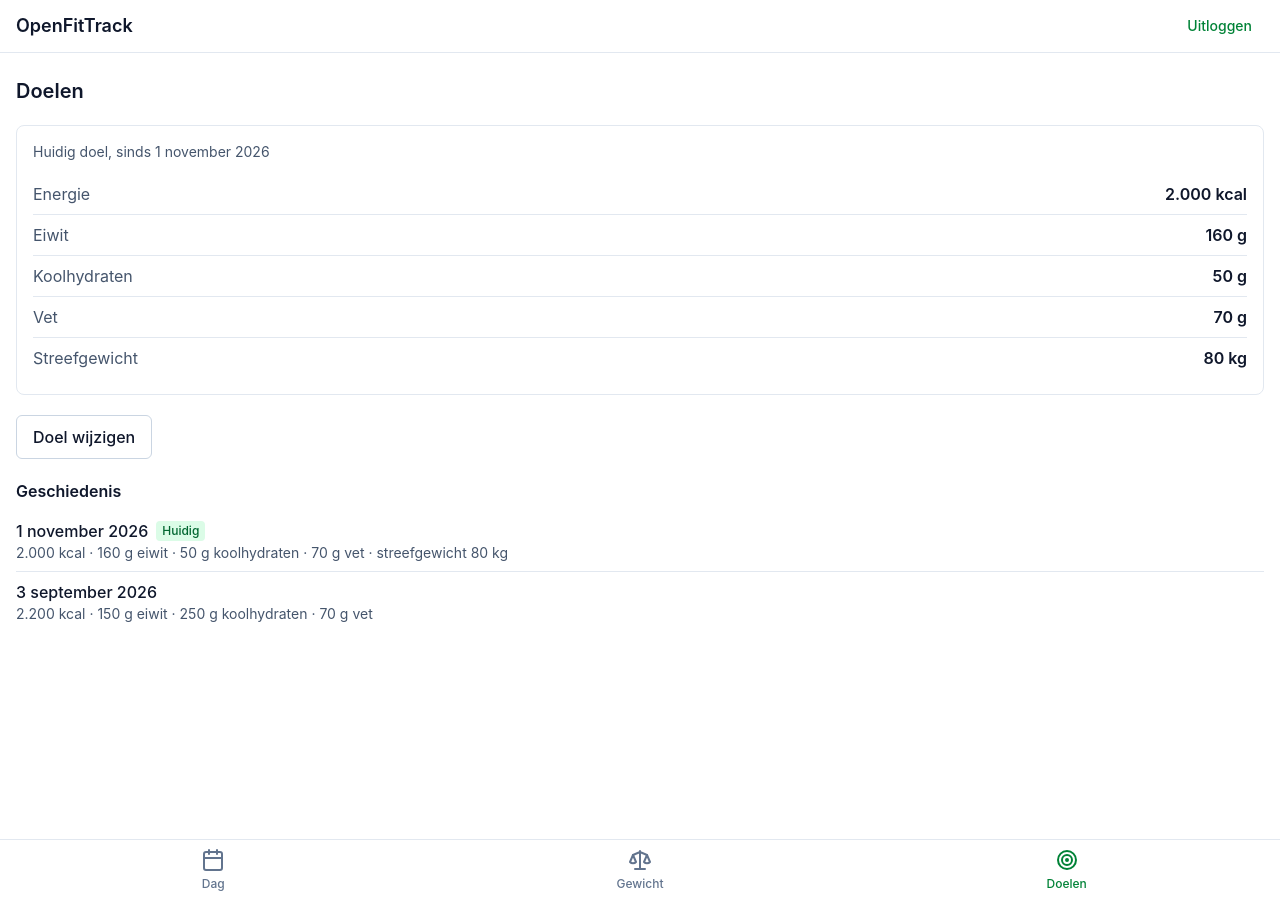
Test case: setting a goal › starts with the current goal, saves a change and closes the form
Step 1. Click the button "Doel wijzigen" → {"x": 84, "y": 437}, box top-left (16, 415), bottom-right (152, 459)
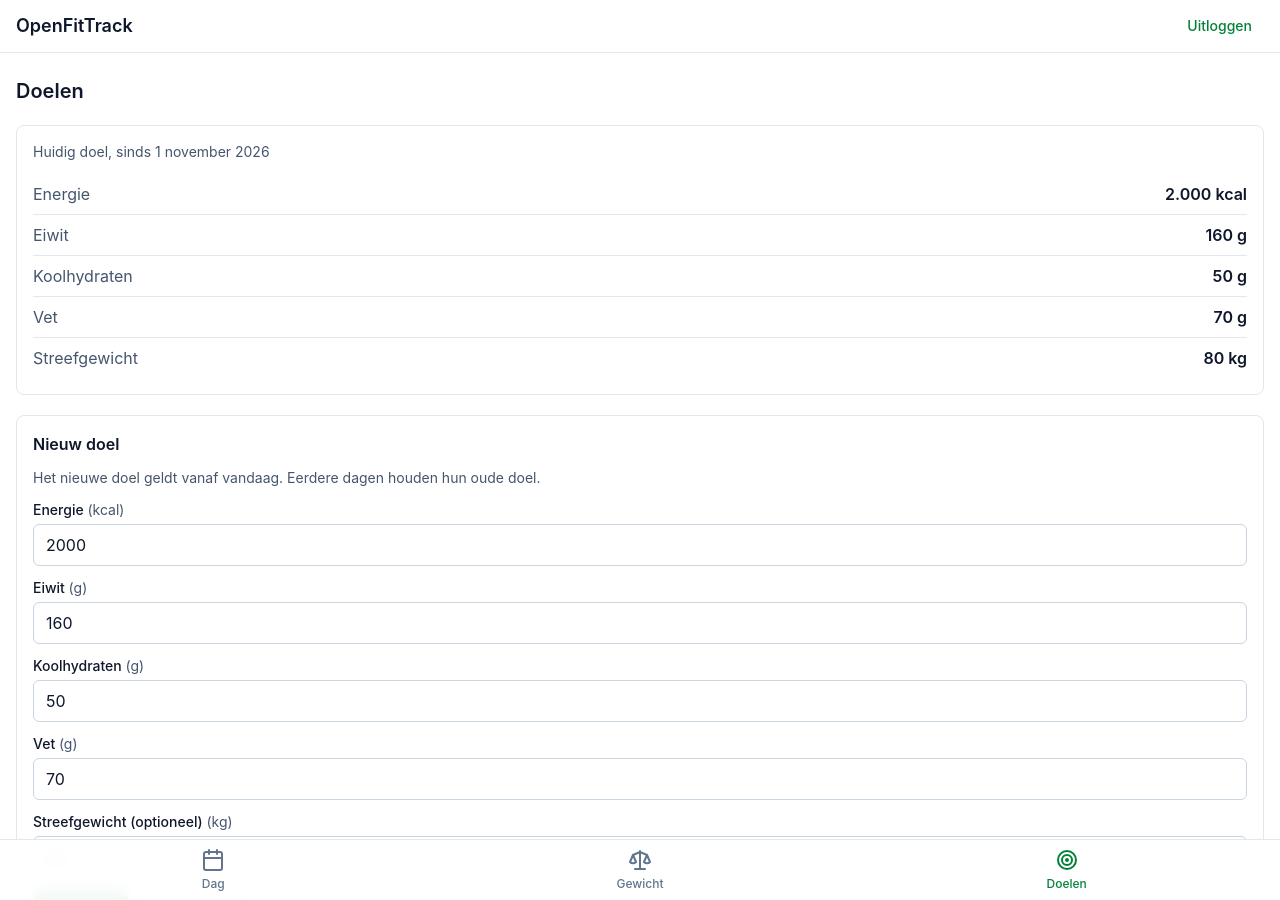
Expected: the field labelled "Energie (kcal)" holds "2000"
Step 2. Replace the text in the field labelled "Energie (kcal)" with "1900" → {"x": 640, "y": 545}, box top-left (33, 524), bottom-right (1247, 566)
(page scrolled)
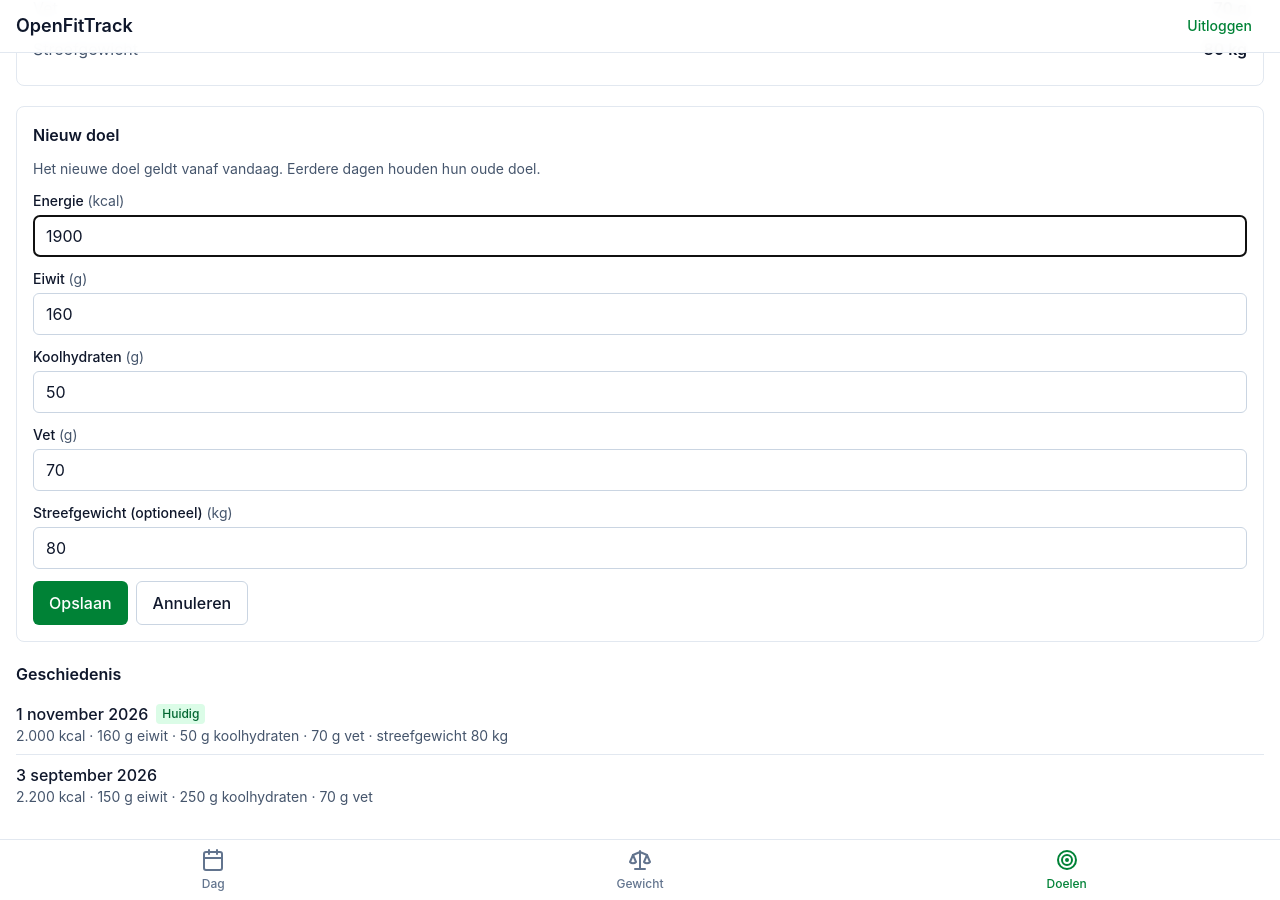
Step 3. Click the button "Opslaan" → {"x": 80, "y": 603}, box top-left (33, 581), bottom-right (128, 625)
(page scrolled)
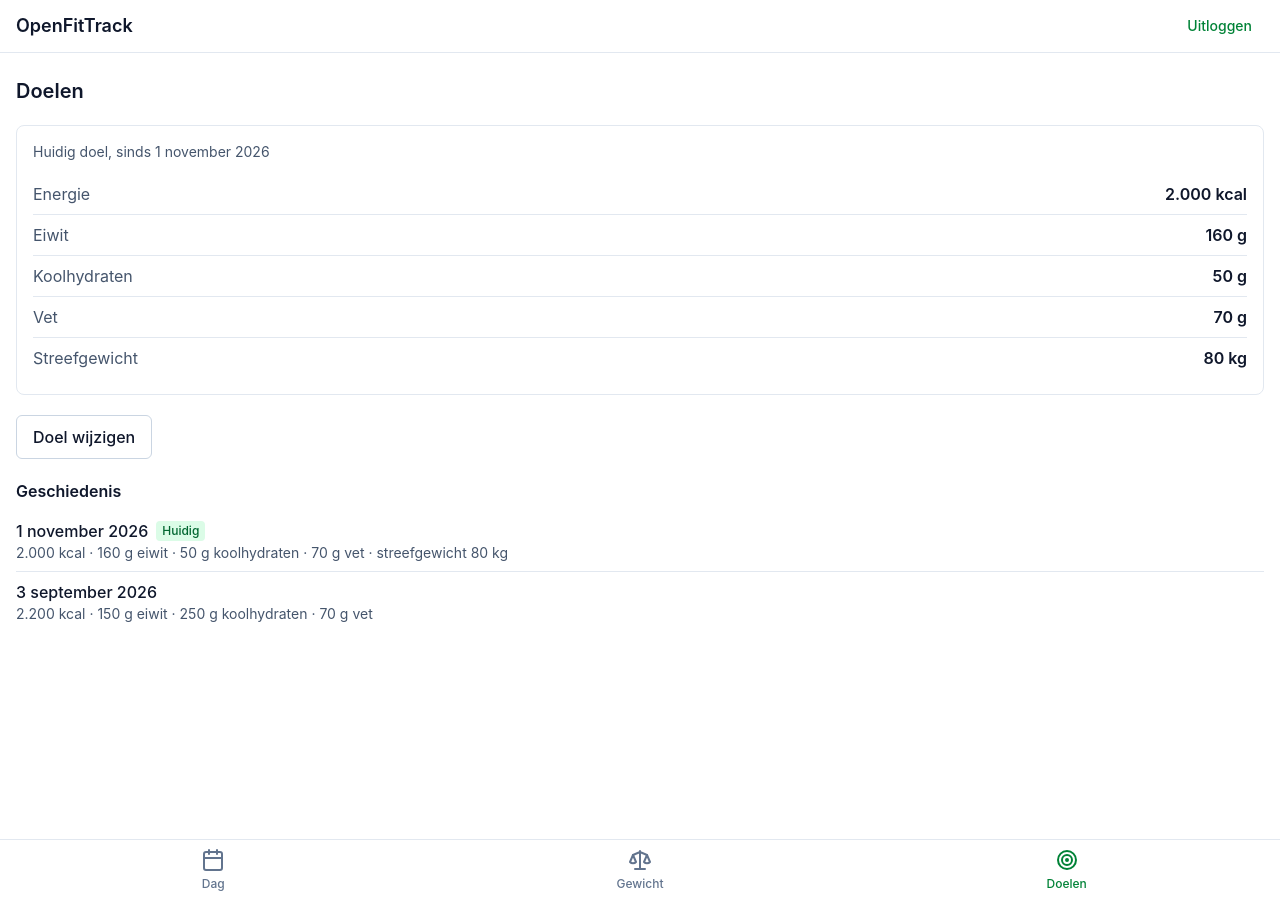
Expected: the button "Doel wijzigen" is shown, top-left (16, 415), bottom-right (152, 459)
